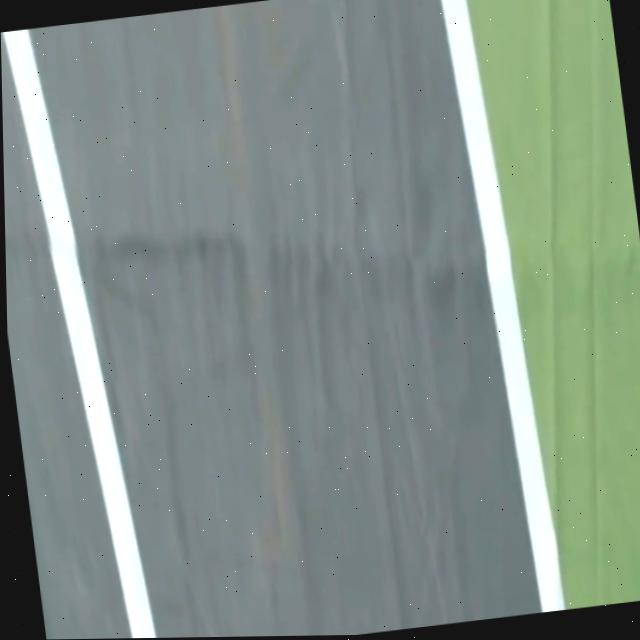center: (1, 29, 155, 638)
right: (440, 0, 565, 612)
